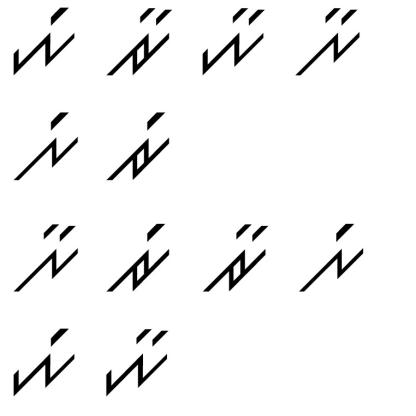lan: (288, 5, 369, 80), (13, 218, 86, 296)
lang: (292, 216, 371, 299), (9, 109, 82, 185)
ran: (197, 218, 272, 301), (104, 7, 176, 78)
rang: (102, 104, 178, 183), (107, 220, 174, 298)
yan: (97, 324, 179, 398), (196, 4, 270, 77)
yang: (9, 322, 80, 398), (9, 5, 81, 76)
